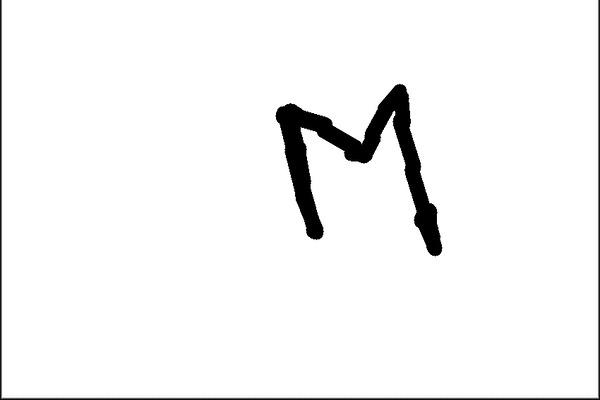M: (271, 84, 444, 255)
